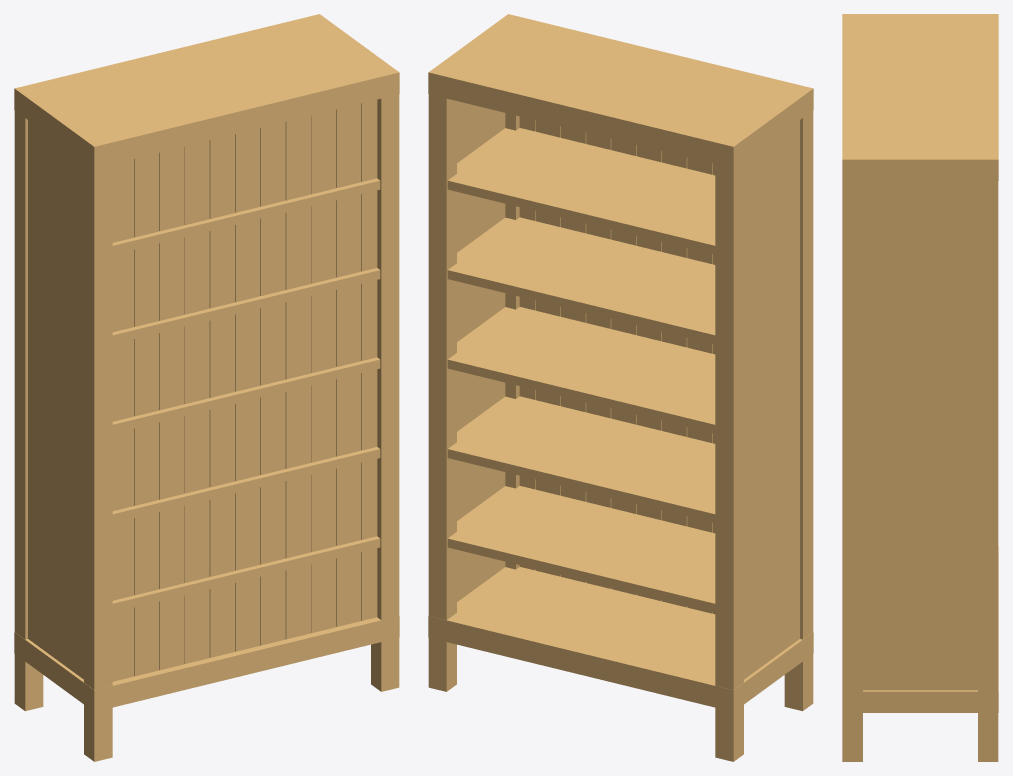
The model's file is 907b1e90-9df9-46b8-bbf1-af6b2ad6e96b.glb.
3 renders of one model, left to right at view 1: azimuth 30°, elevation 25°; view 2: azimuth 150°, elevation 25°; view 3: azimuth 270°, elevation 25°, orthographic. The views are drawn at different scales.
Visible parts, largest first — view 1: Box006, Box008, Box005, Box011, Box014, Box016, Box013, Box018, Box015, Box010, Box012, Box004 (+13 smaller); view 2: Box006, Box008, Box001, Box022, Box023, Box021, Box024, Box020, Box002, Box003, Box007, Box005 (+12 smaller); view 3: Box007, Box006, Box003, Box004, Box001, Box026, Box027.
Part boxes in pixels (x1,y1,x2,y2): Box006: (14,14,399,168); Box008: (28,120,83,679); Box005: (84,161,112,690); Box011: (159,146,184,669); Box014: (235,128,260,651); Box016: (285,116,310,639); Box013: (209,134,234,657); Box018: (336,103,361,626); Box015: (260,122,285,645); Box010: (134,153,159,676); Box012: (184,140,209,663); Box004: (377,94,399,620); Box006: (428,14,813,168); Box008: (744,120,799,679); Box001: (428,567,813,711); Box022: (447,307,715,433); Box023: (447,217,715,344); Box021: (447,396,715,522); Box024: (447,128,715,254); Box020: (447,486,715,612); Box002: (715,161,743,690); Box003: (428,94,456,620); Box007: (457,101,505,601); Box005: (800,110,813,639); Box007: (863,181,977,690); Box006: (842,14,998,180); Box003: (978,181,998,691); Box004: (842,181,862,691); Box001: (842,546,998,712); Box026: (978,713,998,761); Box027: (842,713,862,761).
Size of the model in its own units: 333848 by 643054 by 151248.
